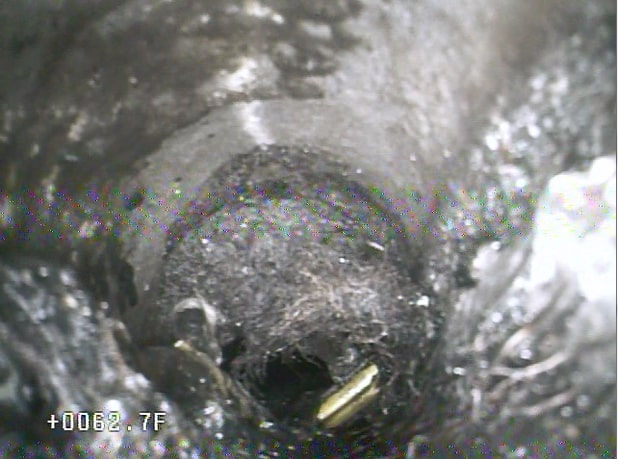cb: (286, 360, 387, 427)
